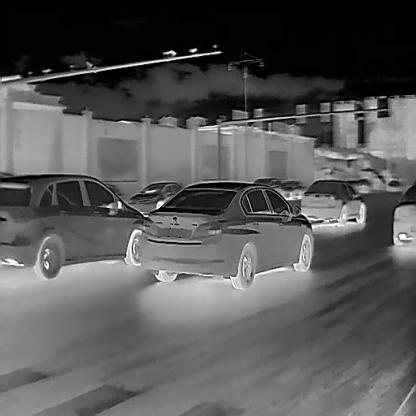car: (137, 180, 314, 289), (0, 172, 145, 280), (300, 178, 366, 227), (127, 180, 182, 212), (392, 180, 416, 247)
